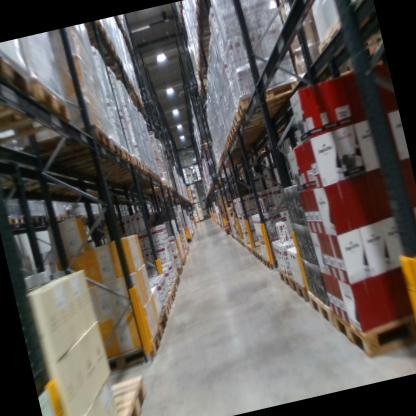pallet: (328, 288, 416, 369), (0, 65, 82, 149), (14, 112, 113, 171), (38, 128, 126, 176), (69, 372, 157, 416), (233, 75, 306, 121), (56, 144, 135, 185), (104, 327, 170, 376), (0, 38, 37, 110), (314, 17, 361, 62), (228, 110, 284, 140), (230, 101, 280, 134), (307, 289, 338, 334), (225, 123, 273, 147), (223, 130, 272, 152), (277, 260, 304, 295), (290, 273, 314, 308), (259, 247, 287, 273), (80, 20, 109, 43), (156, 307, 175, 340), (3, 206, 27, 232), (247, 237, 271, 259), (28, 209, 51, 228), (251, 243, 272, 261), (48, 212, 70, 229), (163, 286, 180, 307), (160, 294, 174, 316), (256, 248, 274, 263), (195, 81, 212, 96), (131, 96, 146, 111), (173, 265, 187, 277), (169, 280, 180, 295), (172, 273, 183, 288), (223, 203, 237, 214), (66, 213, 75, 222), (241, 239, 248, 250), (244, 242, 250, 251)
